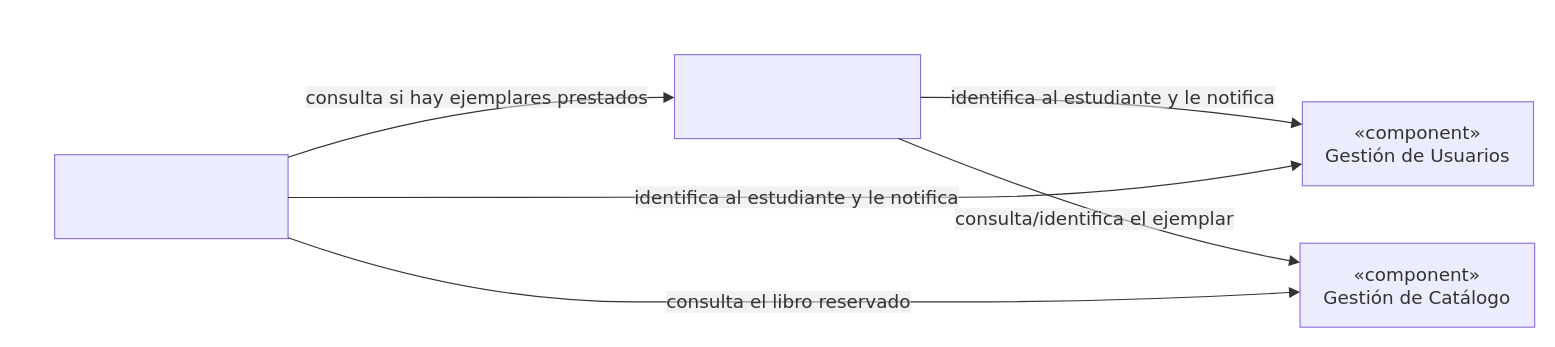
Some shapes in this 1555 by 347 pixel diagram are drawn without their labels. The shapes that lost their labels are listed below. From the top down, each one's centre as x and y in pixels, then its label:
(797,96): «component» Gestión de Préstamos
(170,196): «component» Gestión de Reservas
